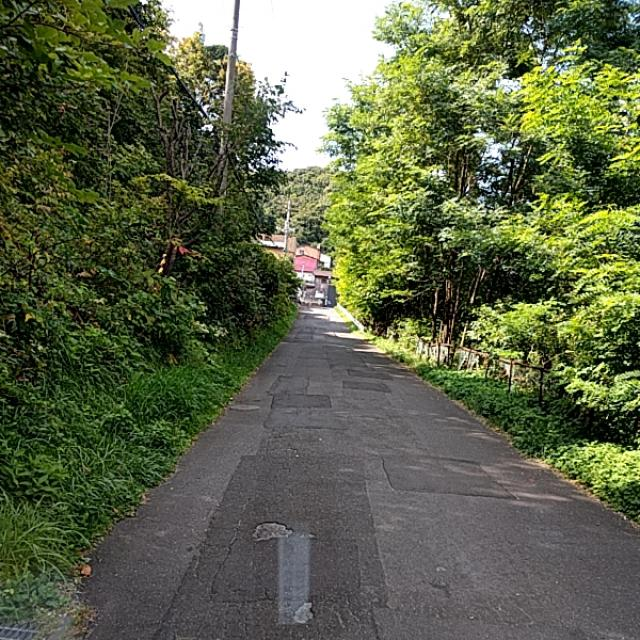pothole: (374, 564, 496, 609)
